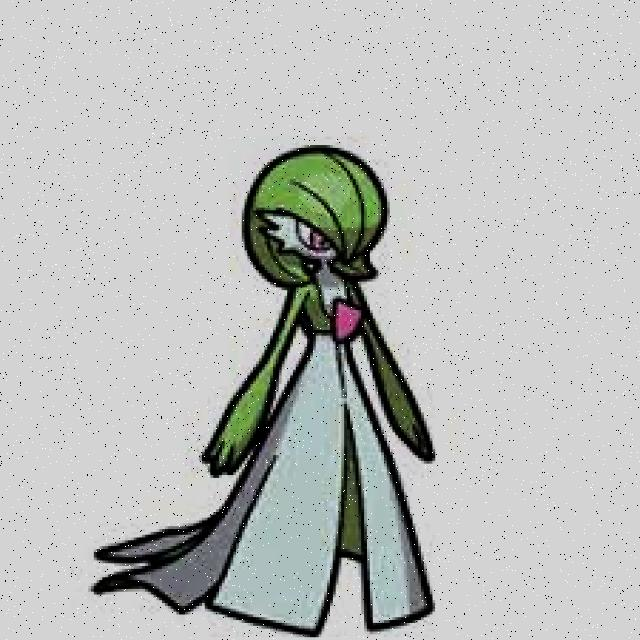gardevoir: (97, 140, 437, 636)
